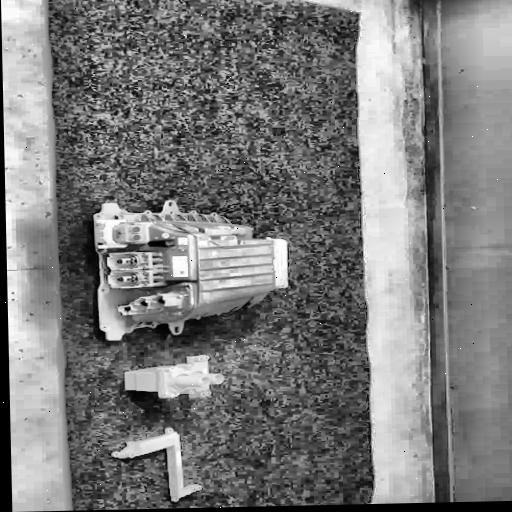bms_unit: (90, 201, 290, 341)
busbar: (112, 427, 203, 502)
connector: (122, 352, 224, 399)
